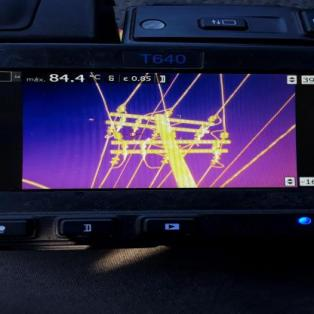Poste: (152, 110, 202, 187)
